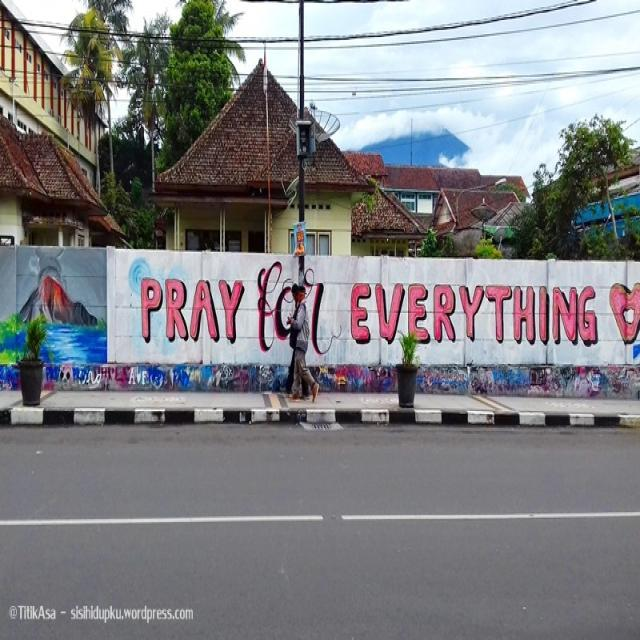-: (142, 262, 640, 356), (1, 252, 106, 376)
